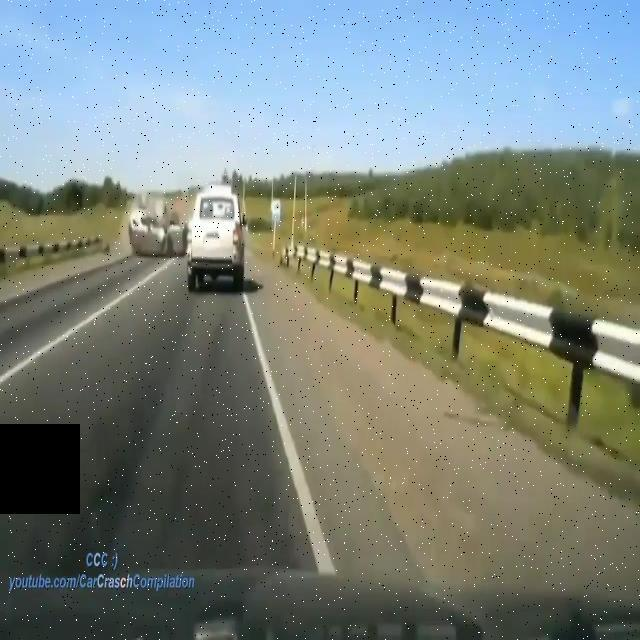moderate: (128, 184, 252, 290)
